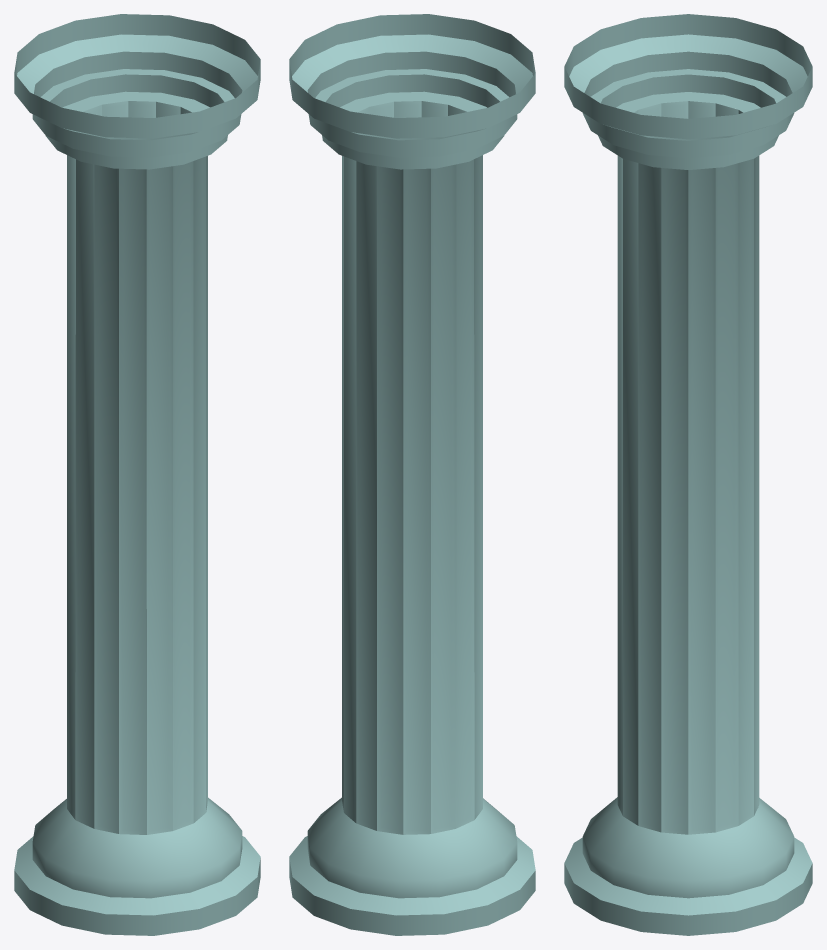
Rendered from RoundPiller_1.fbx.
3 views of the same model, side by side, from view 1: azimuth 30°, elevation 25°; view 2: azimuth 150°, elevation 25°; view 3: azimuth 270°, elevation 25° (orthographic).
Parts seen in each view (by area): view 1: PillerExtrudeAble, PillerHead, PillerFoot; view 2: PillerExtrudeAble, PillerHead, PillerFoot; view 3: PillerExtrudeAble, PillerHead, PillerFoot.
Boxes of the visible parts, <box> form: PillerExtrudeAble: <box>67,101,207,834</box>; PillerHead: <box>14,14,260,169</box>; PillerFoot: <box>14,797,260,935</box>; PillerExtrudeAble: <box>342,101,482,834</box>; PillerHead: <box>289,14,535,169</box>; PillerFoot: <box>289,797,535,935</box>; PillerExtrudeAble: <box>617,101,759,834</box>; PillerHead: <box>564,14,812,169</box>; PillerFoot: <box>564,797,812,935</box>.
Size of the model in its own units: 105 by 381 by 105.
